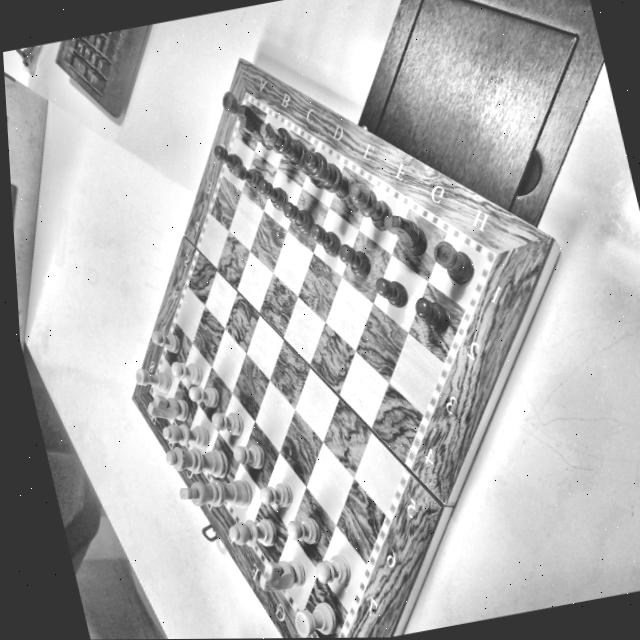black-bishop: (343, 175, 400, 238), (256, 116, 295, 171)
black-king: (261, 113, 332, 195)
black-knight: (378, 207, 431, 262), (235, 97, 276, 157)
black-pawn: (410, 290, 456, 343), (370, 269, 415, 315), (305, 218, 347, 261), (334, 239, 374, 284), (278, 197, 318, 240), (254, 174, 292, 217), (210, 140, 248, 181), (229, 159, 268, 195)
black-queen: (300, 141, 366, 220)
black-rook: (428, 236, 479, 292), (217, 85, 256, 139)
white-bishop: (223, 513, 281, 555), (156, 419, 212, 454)
white-king: (173, 471, 256, 523)
white-knight: (251, 549, 311, 599), (141, 389, 192, 429)
white-pawn: (310, 549, 359, 595), (282, 512, 325, 552), (252, 478, 298, 514), (206, 407, 246, 443), (228, 441, 268, 474), (146, 326, 184, 360), (185, 382, 223, 414), (168, 356, 204, 389)
white-queen: (161, 437, 234, 489)
white-rook: (287, 598, 341, 638), (130, 362, 175, 398)
